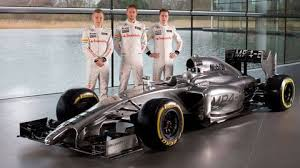FormulaOneCar: (13, 45, 300, 160)
